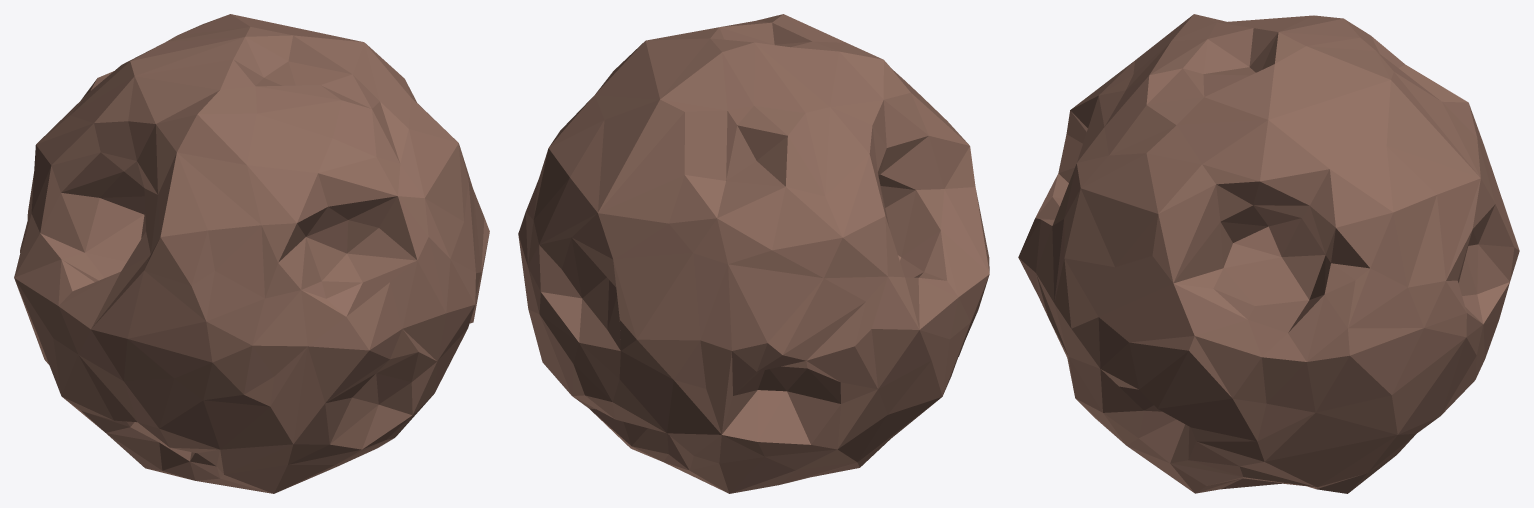
File: Asteroid.fbx
3 views of the same model, side by side, from view 1: azimuth 30°, elevation 25°; view 2: azimuth 150°, elevation 25°; view 3: azimuth 270°, elevation 25° (orthographic). The views are drawn at different scales.
Visible parts, largest first — view 1: Icosphere; view 2: Icosphere; view 3: Icosphere.
Boxes of the visible parts, left/top/right/bottom form: Icosphere: left=14, top=14, right=489, bottom=493; Icosphere: left=518, top=14, right=989, bottom=493; Icosphere: left=1018, top=14, right=1519, bottom=493.
Bounding box in the file's own units: 191 × 198 × 201.
